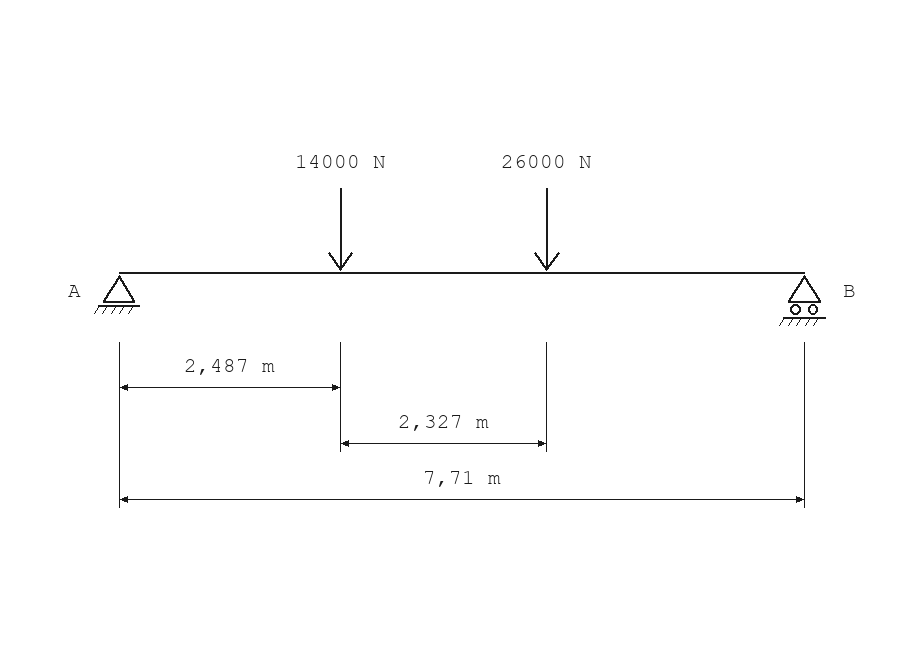pin_support: (94, 275, 140, 314)
point_load: (534, 188, 560, 271), (328, 188, 353, 271)
roller_support: (779, 275, 826, 326)
